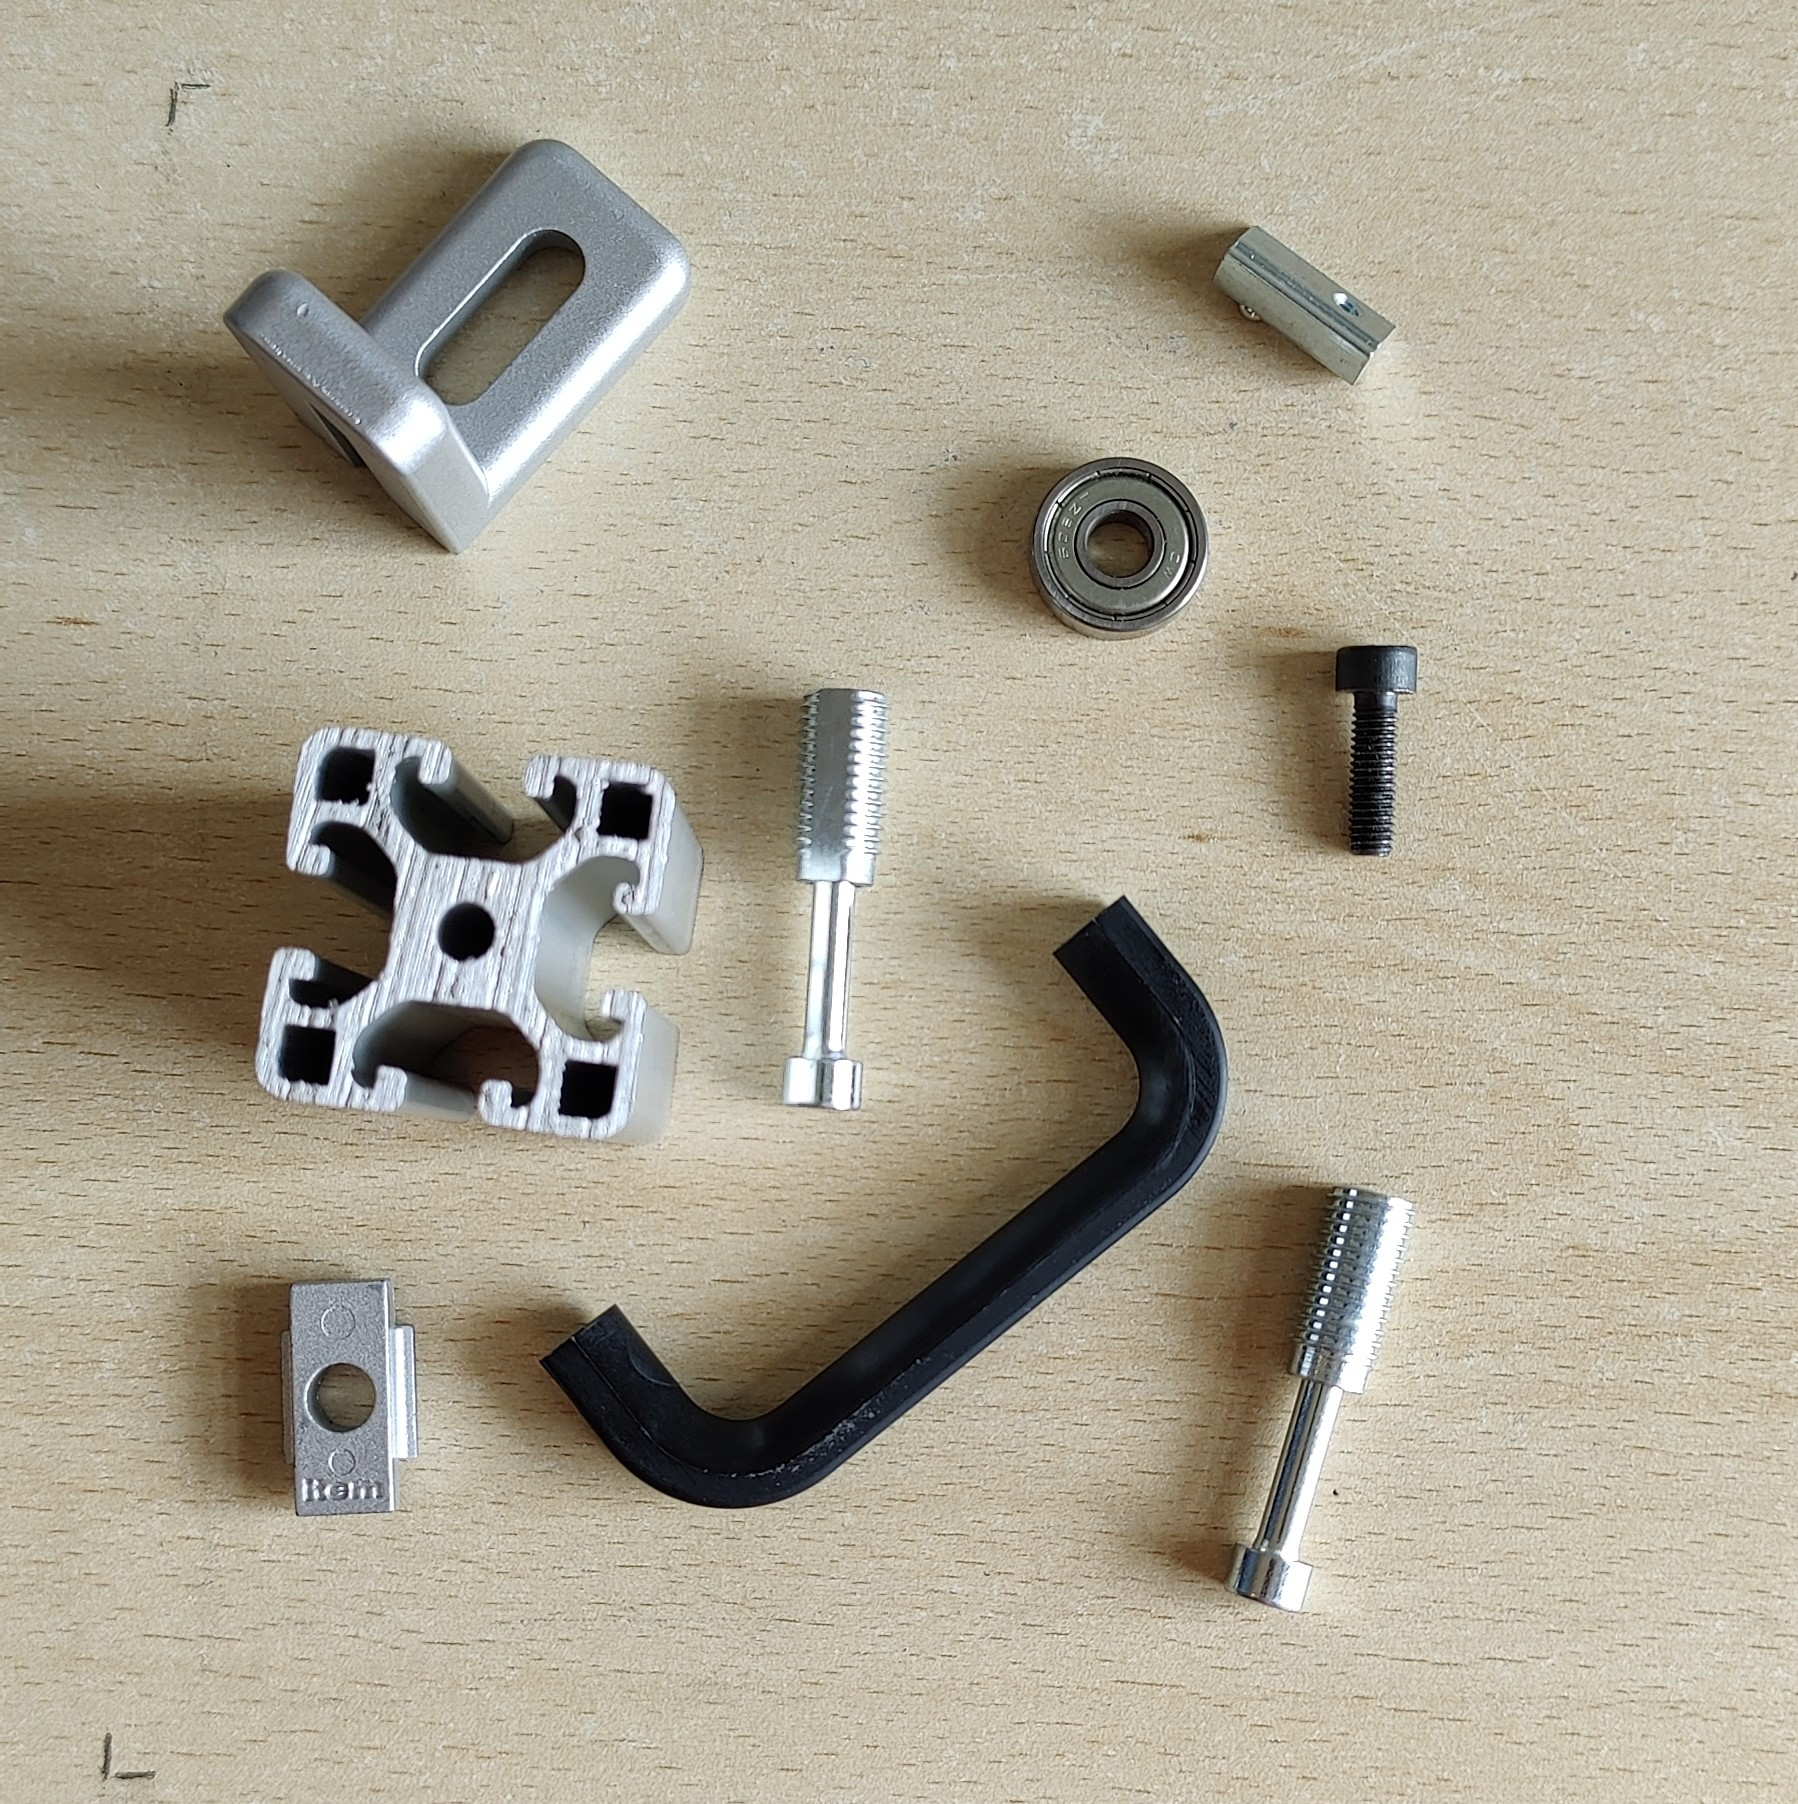Aluminium Extension: (250, 726, 706, 1151)
Ball Bearing: (1026, 454, 1210, 644)
Multiwinkel: (222, 138, 693, 556)
Pull Handle: (535, 894, 1228, 1511)
Shoulder Socket Head Cap Screw: (1225, 1185, 1414, 1615), (776, 685, 891, 1116)
Socket Head Cap Screw: (1330, 640, 1419, 859)
T Nut Square: (277, 1274, 418, 1521)
T Spring Nut: (1209, 225, 1400, 388)
